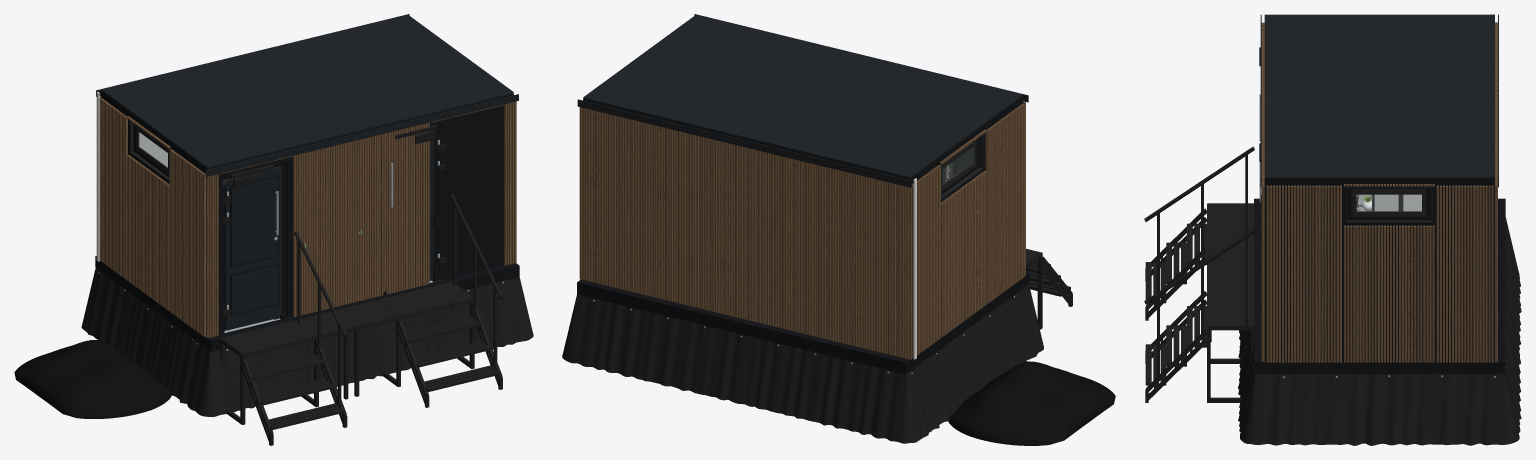
Rendered from SHOWER2_B-d7a421a1589e.glb.
3 renders of one model, left to right at view 1: azimuth 30°, elevation 25°; view 2: azimuth 150°, elevation 25°; view 3: azimuth 270°, elevation 25°, orthographic. The views are drawn at different scales.
Visible parts, largest first — view 1: RoofNoLED_Slab_1x1m, SHOWER2_Slats_front_02, SHOWER2_Curtain_front, SHOWER2_Wall_front_03_fill, SHOWER2_Drawbar_tarp, SHOWER2_Slats_L_06, SHOWER2_Slats_L_07, SHOWER2_Slats_L_09, DoorUnit_L_Inset_panel_001, DoorUnit_L_Opaque_leaf, SHOWER2_Cornice_front_B, SHOWER2_Slats_front_04 (+12 smaller); view 2: SHOWER2_Slats_back_05, RoofNoLED_Slab_1x1m, SHOWER2_Curtain_front, SHOWER2_Drawbar_tarp, SHOWER2_Slats_L_06, SHOWER2_Slats_L_07, SHOWER2_Chassis_ledge_back, SHOWER2_Slats_L_09, SHOWER2_Cornice_back_B, SHOWER2_Chassis_rim_end_L, SHOWER2_Wall_back_00, SHOWER2_Trim_corner_L_B; view 3: RoofNoLED_Slab_1x1m, SHOWER2_Curtain_front, SHOWER2_Slats_R_10, SHOWER2_Slats_R_11, SHOWER2_Slats_R_13, SHOWER2_Wall_end_R_00, SHOWER2_Wall_end_R_01, SHOWER2_Wall_end_R_03, SHOWER2_Chassis_rim_end_R, Stair_Landing_Plate.001, SHOWER2_Platform_fill, Stair_Landing_Plate (+16 smaller).
Part boxes in pixels (x1,y1,x2,y2): RoofNoLED_Slab_1x1m: [101, 14, 513, 168]; SHOWER2_Slats_front_02: [293, 122, 429, 316]; SHOWER2_Curtain_front: [81, 267, 533, 416]; SHOWER2_Wall_front_03_fill: [432, 97, 498, 281]; SHOWER2_Drawbar_tarp: [14, 340, 171, 418]; SHOWER2_Slats_L_06: [169, 149, 205, 336]; SHOWER2_Slats_L_07: [126, 154, 169, 310]; SHOWER2_Slats_L_09: [99, 98, 127, 279]; DoorUnit_L_Inset_panel_001: [231, 177, 278, 266]; DoorUnit_L_Opaque_leaf: [225, 166, 282, 330]; SHOWER2_Cornice_front_B: [205, 94, 518, 176]; SHOWER2_Slats_front_04: [504, 101, 516, 265]; SHOWER2_Slats_back_05: [579, 107, 911, 359]; RoofNoLED_Slab_1x1m: [583, 14, 1022, 178]; SHOWER2_Curtain_front: [562, 284, 1043, 443]; SHOWER2_Drawbar_tarp: [948, 361, 1115, 445]; SHOWER2_Slats_L_06: [985, 103, 1024, 303]; SHOWER2_Slats_L_07: [941, 171, 986, 337]; SHOWER2_Chassis_ledge_back: [577, 279, 908, 373]; SHOWER2_Slats_L_09: [912, 165, 940, 358]; SHOWER2_Cornice_back_B: [577, 99, 911, 187]; SHOWER2_Chassis_rim_end_L: [904, 272, 1029, 374]; SHOWER2_Wall_back_00: [583, 99, 913, 369]; SHOWER2_Trim_corner_L_B: [913, 178, 916, 359]; RoofNoLED_Slab_1x1m: [1264, 14, 1494, 178]; SHOWER2_Curtain_front: [1238, 217, 1521, 445]; SHOWER2_Slats_R_10: [1266, 185, 1341, 362]; SHOWER2_Slats_R_11: [1344, 225, 1434, 362]; SHOWER2_Slats_R_13: [1436, 185, 1493, 362]; SHOWER2_Wall_end_R_00: [1271, 178, 1346, 374]; SHOWER2_Wall_end_R_01: [1346, 223, 1432, 374]; SHOWER2_Wall_end_R_03: [1432, 178, 1488, 374]; SHOWER2_Chassis_rim_end_R: [1254, 361, 1505, 373]; Stair_Landing_Plate.001: [1207, 286, 1254, 326]; SHOWER2_Platform_fill: [1207, 244, 1254, 285]; Stair_Landing_Plate: [1207, 203, 1254, 243].
Bounding box in the file's own units: 5.7 × 3.04 × 3.93.
85 materials, 13 textured.
